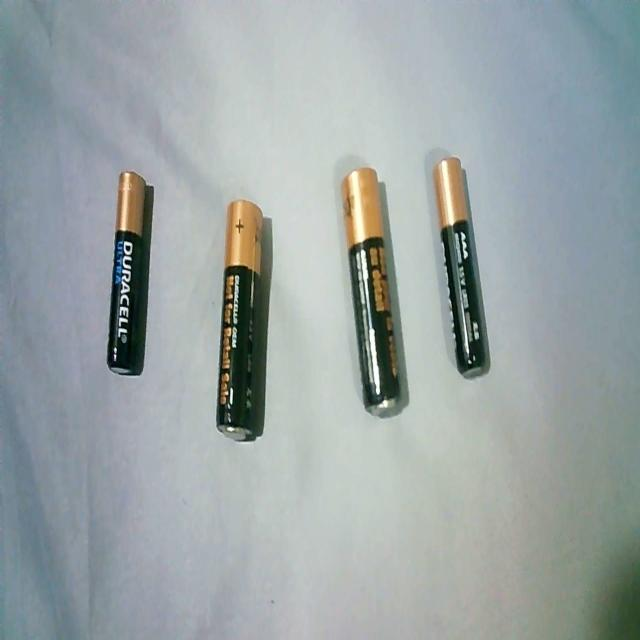AA: (336, 160, 407, 421), (212, 190, 268, 453)
AAA: (431, 148, 494, 386), (106, 160, 152, 389)
